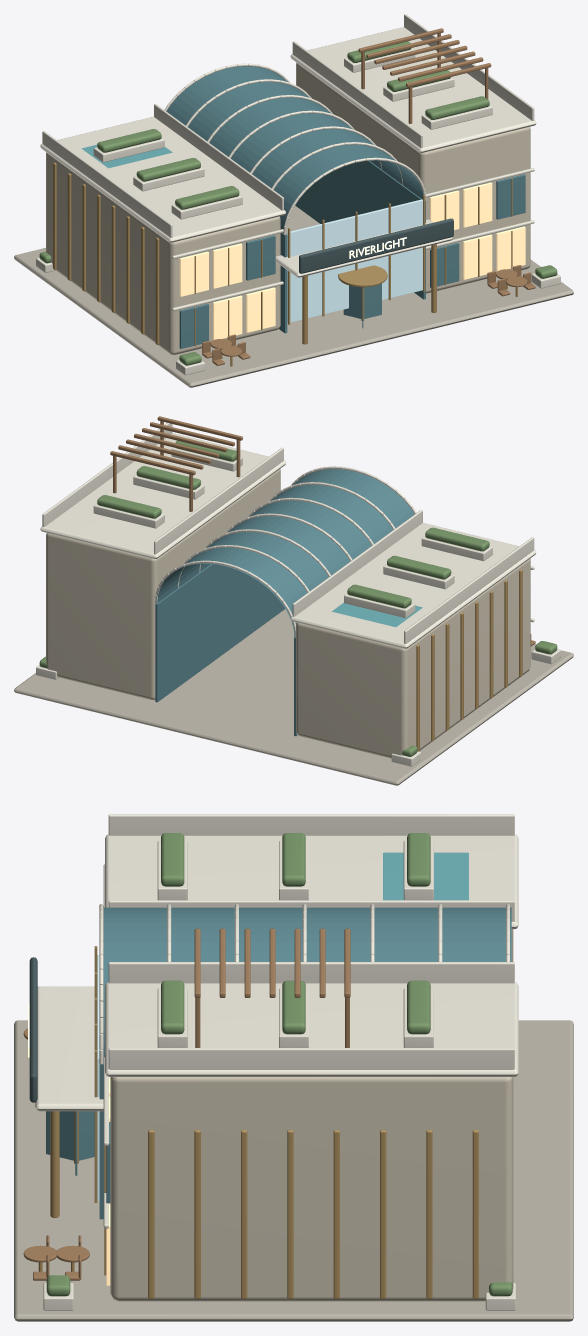
Rendered from shopping-gallery.glb.
The picture shows the model from 3 angles, top to bottom: view 1: azimuth 30°, elevation 25°; view 2: azimuth 150°, elevation 25°; view 3: azimuth 270°, elevation 25°; orthographic projection. The views are drawn at different scales.
Parts seen in each view (by area): view 1: Gallery_Limestone, Shopping_Plaza, Atrium_Glass_Vault, Gallery_Limestone.001, Gallery_Cornice, Gallery_Cornice.001, Atrium_Front_Glazing, Atrium_Side_Glazing.001, Shopping_Gallery_Sign, Rooftop_Parapet, Rooftop_Parapet.002, Rooftop_Parapet.001 (+32 smaller); view 2: Gallery_Limestone, Shopping_Plaza, Gallery_Limestone.001, Atrium_Glass_Vault, Atrium_Side_Glazing.001, Gallery_Cornice, Gallery_Cornice.001, Rooftop_Parapet, Rooftop_Parapet.002, Rooftop_Parapet.001, Rooftop_Parapet.003, Roof_Reflecting_Pool (+13 smaller); view 3: Gallery_Limestone.001, Shopping_Plaza, Gallery_Cornice.001, Atrium_Glass_Vault, Gallery_Cornice, Rooftop_Parapet.003, Rooftop_Parapet, Rooftop_Parapet.002, Entrance_Canopy, Rooftop_Parapet.001, Roof_Reflecting_Pool, Shopping_Gallery_Sign (+25 smaller).
Part boxes in pixels (x1,y1,x2,y2): Gallery_Limestone: (46, 152, 280, 354); Shopping_Plaza: (14, 205, 573, 387); Atrium_Glass_Vault: (166, 66, 423, 229); Gallery_Limestone.001: (296, 63, 530, 293); Gallery_Cornice: (40, 116, 285, 242); Gallery_Cornice.001: (290, 27, 536, 152); Atrium_Front_Glazing: (287, 199, 422, 322); Atrium_Side_Glazing.001: (295, 160, 425, 299); Shopping_Gallery_Sign: (299, 218, 453, 273); Rooftop_Parapet: (42, 131, 172, 237); Rooftop_Parapet.002: (292, 41, 422, 148); Rooftop_Parapet.001: (154, 104, 283, 210); Gallery_Limestone: (296, 558, 530, 758); Shopping_Plaza: (14, 609, 573, 785); Gallery_Limestone.001: (46, 469, 280, 699); Atrium_Glass_Vault: (155, 469, 414, 637); Atrium_Side_Glazing.001: (155, 564, 284, 702); Gallery_Cornice: (290, 523, 536, 648); Gallery_Cornice.001: (40, 433, 285, 558); Rooftop_Parapet: (404, 537, 534, 643); Rooftop_Parapet.002: (154, 447, 283, 554); Rooftop_Parapet.001: (292, 510, 422, 616); Rooftop_Parapet.003: (42, 423, 172, 526); Roof_Reflecting_Pool: (332, 602, 422, 627); Gallery_Limestone.001: (110, 1077, 513, 1301); Shopping_Plaza: (14, 1020, 573, 1321); Gallery_Cornice.001: (105, 982, 518, 1076); Atrium_Glass_Vault: (103, 907, 511, 1057); Gallery_Cornice: (105, 834, 518, 929); Rooftop_Parapet.003: (108, 1048, 514, 1069); Rooftop_Parapet: (108, 814, 514, 835); Rooftop_Parapet.002: (108, 962, 514, 983); Entrance_Canopy: (35, 986, 103, 1111); Rooftop_Parapet.001: (108, 900, 514, 921); Roof_Reflecting_Pool: (383, 852, 468, 900); Shopping_Gallery_Sign: (29, 957, 37, 1102).
Size of the model in its own units: 19.7 by 9.59 by 15.7.
